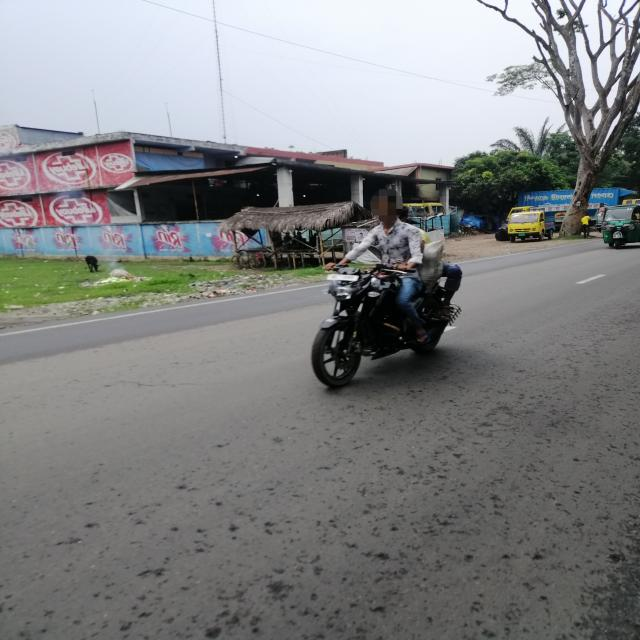Motorbike: (285, 256, 470, 388)
